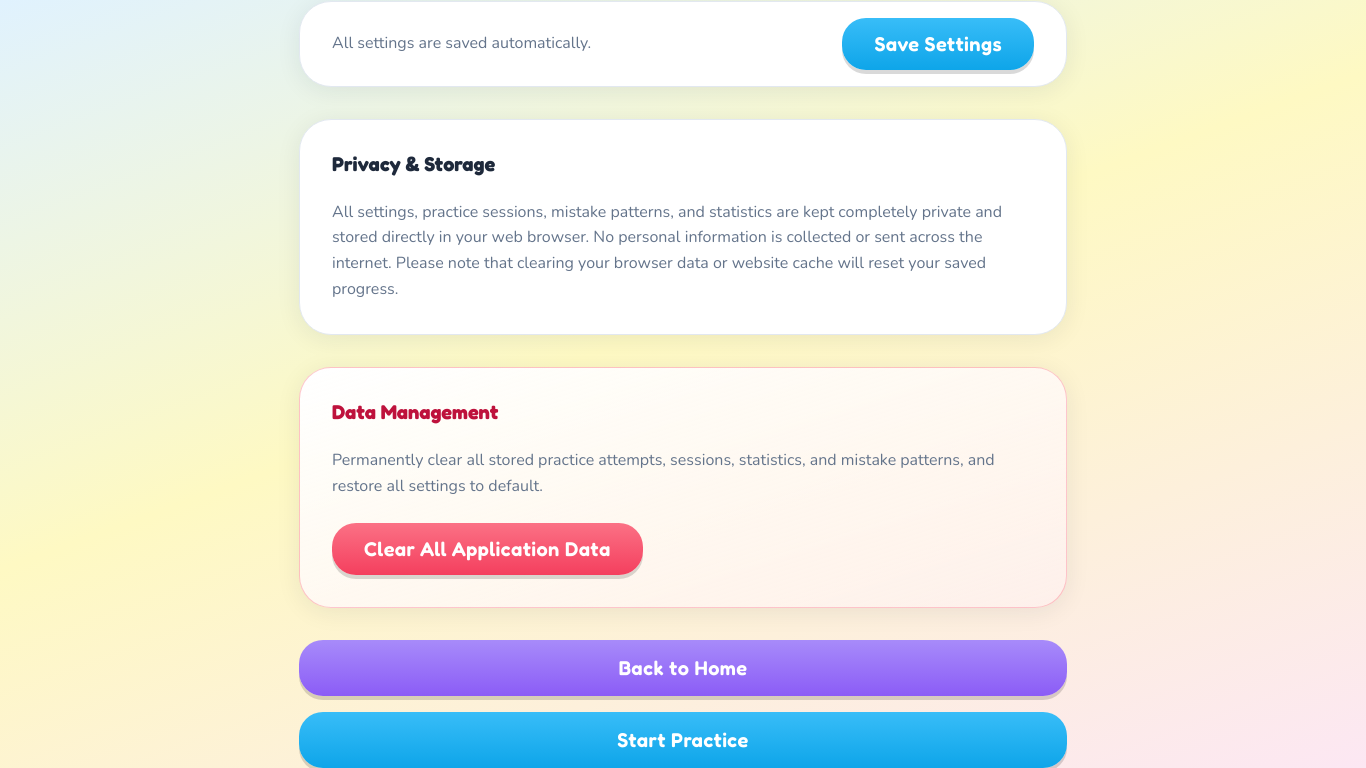
Test: SettingsPage › closes confirmation dialog without clearing when cancelled
(page scrolled)
Click the button "Clear All Application Data" at (487, 550), box [332,524,643,576]
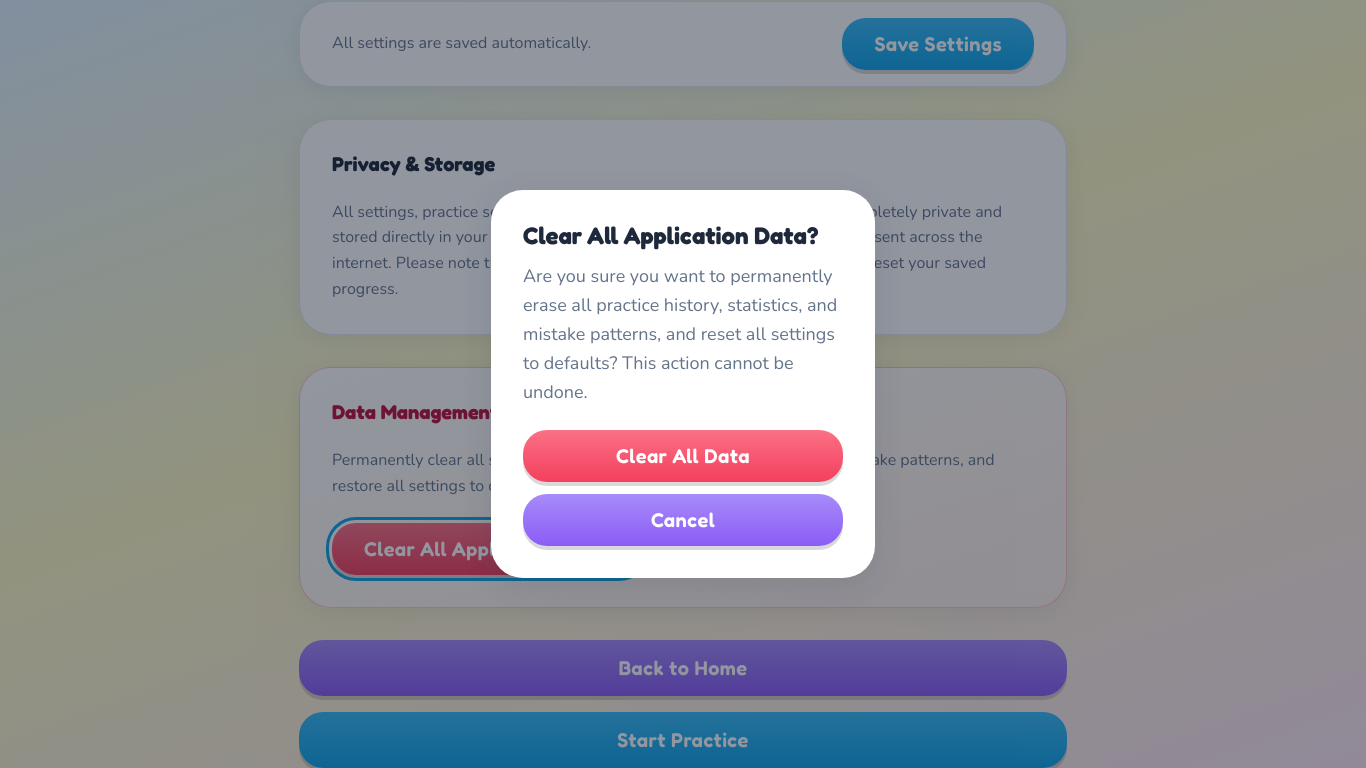
Click the button "Cancel" at (683, 520), box [523,494,843,546]
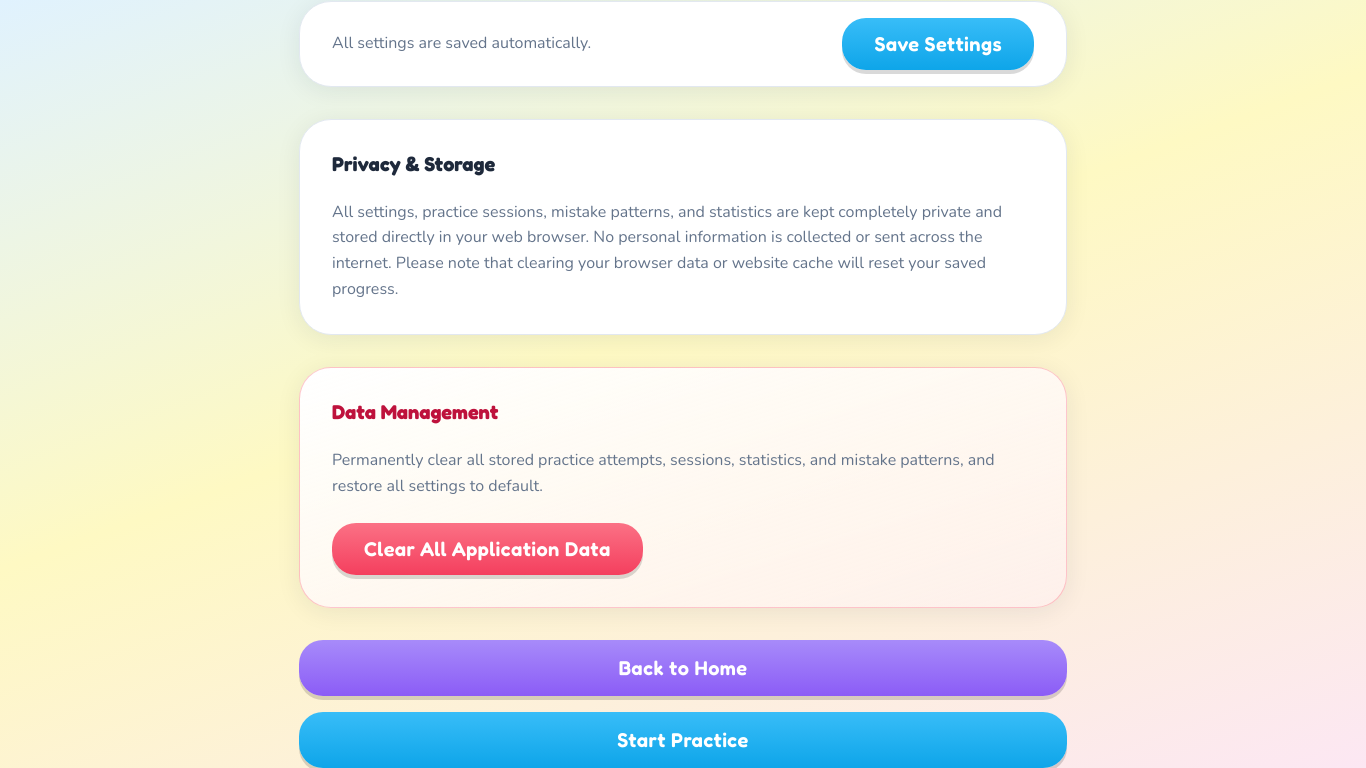
expect the dialog is gone: met
